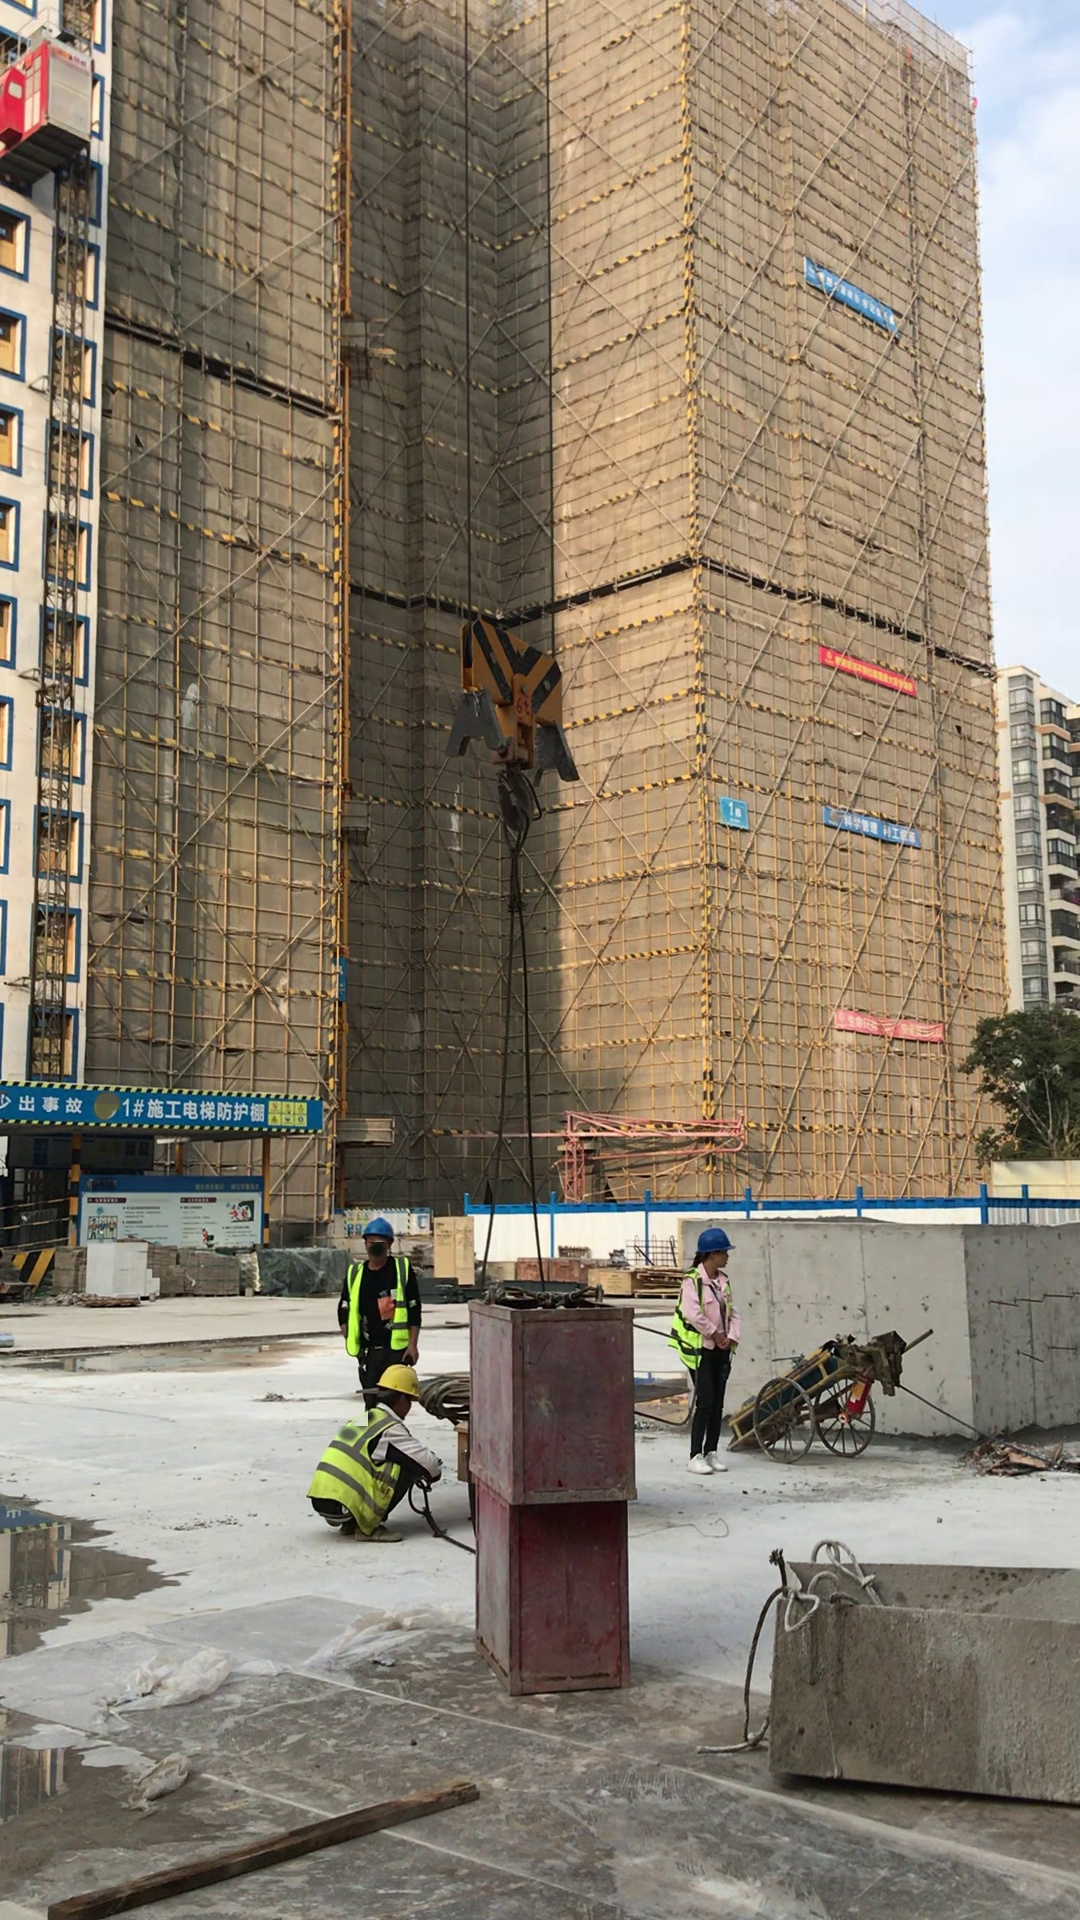brick: (83, 1241, 163, 1307)
ebox: (445, 1420, 469, 1490)
fence: (1, 1193, 75, 1252)
handcart: (724, 1305, 947, 1484)
helmet: (691, 1221, 746, 1265), (377, 1359, 431, 1398), (358, 1209, 404, 1244)
hook: (385, 592, 624, 884)
hopper: (734, 1537, 1080, 1825)
person: (307, 1359, 465, 1569), (653, 1198, 763, 1484), (322, 1190, 455, 1415)
slogan: (1, 1028, 340, 1167), (67, 1171, 270, 1243), (773, 258, 924, 346), (799, 628, 927, 705), (812, 1003, 961, 1062), (823, 792, 942, 862), (706, 784, 770, 856)
vest: (303, 1401, 420, 1524), (662, 1262, 739, 1373), (341, 1250, 417, 1354)
wood: (148, 1240, 242, 1299), (52, 1243, 88, 1296)
